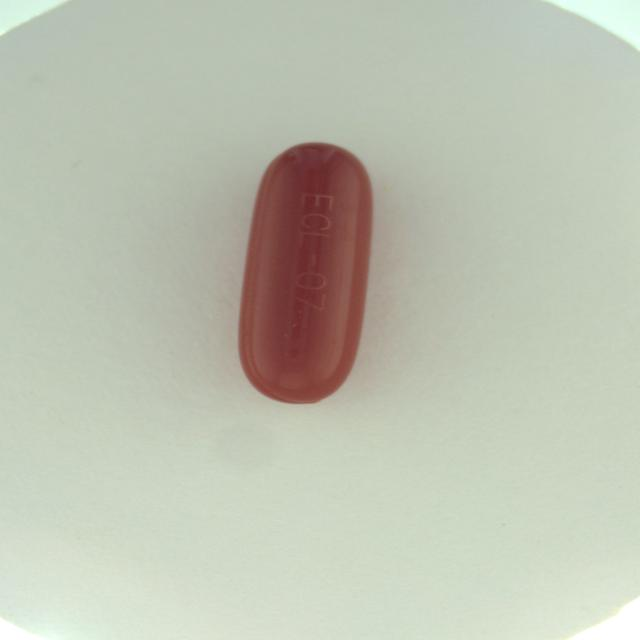Oval: (236, 134, 388, 410)
